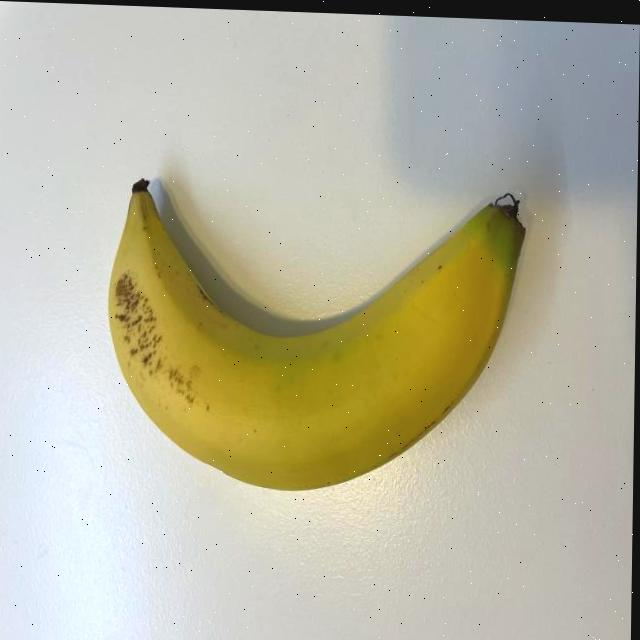banana: (99, 163, 528, 503)
